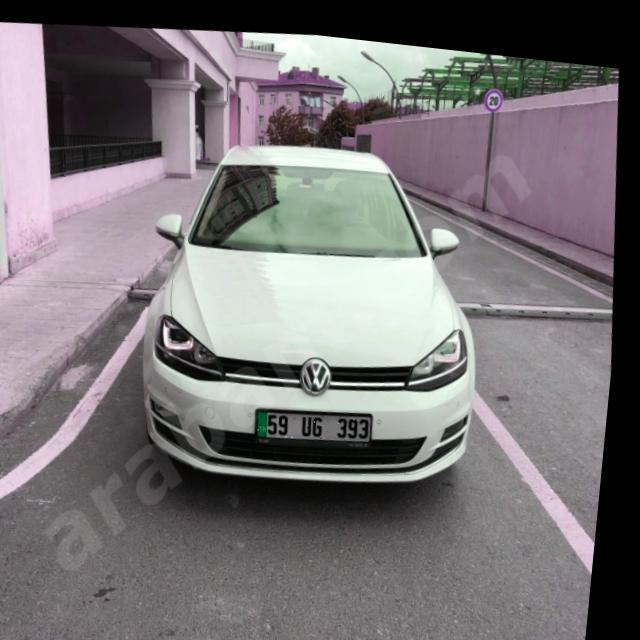license_plate: (260, 393, 381, 441)
